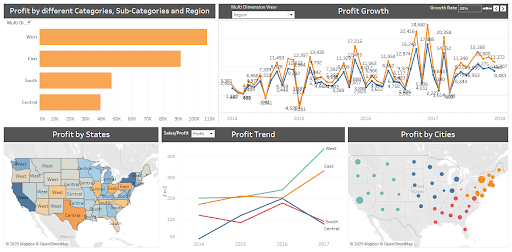

The dashboard page shown, as its layout file describes it:
{"tool":"tableau","page":{"name":"Superstore Dashboard","canvas":[1000,1000],"units":"permille","ordinal":0},"visuals":[{"type":"worksheet","title":"Sales/Profit by Different Aspects","mark":"Automatic","rows":["Calculation_827536486978531328"],"cols":["Calculation_827536487000260609"],"box":[8.1,15.3,416.3,484.7]},{"type":"worksheet","title":"Sales/Profit Change","mark":"Automatic","rows":["Calculation_827536487000260609","Calculation_827536487007801346"],"cols":["Order Date"],"box":[424.4,15.3,567.5,484.7]},{"type":"parameter","param":"[Parameters].[Parameter 1]","box":[451.4,17.5,126,62.9]},{"type":"parameter","param":"[Parameters].[Parameter 3]","box":[839.5,17.5,149.8,57]},{"type":"worksheet","title":"Sales/Proft by States","mark":"Automatic","box":[8.1,500,305.6,484.7]},{"type":"worksheet","title":"Sales/Profit Trend","mark":"Automatic","rows":["Calculation_827536487000260609"],"cols":["Order Date"],"box":[313.7,500,361.5,484.7]},{"type":"worksheet","title":"Sales/Profit by Cities","mark":"Automatic","box":[675.2,500,316.7,484.7]},{"type":"parameter","param":"[Parameters].[Parameter 2]","box":[320.4,513.2,101.5,40.9]}]}

Visuals, with their boxes on the dashboard's canvas, which has no fixed pixel size, in thousandths of its width and height (x1, y1, x2, y2). These are canvas units, not pixel positions in the 512x252 screenshot, which may show the page scaled, cropped or inside an application window:
"Sales/Profit by Different Aspects" worksheet: Rect(8, 15, 424, 500)
"Sales/Profit Change" worksheet: Rect(424, 15, 992, 500)
parameter: Rect(451, 18, 577, 80)
parameter: Rect(840, 18, 989, 74)
"Sales/Proft by States" worksheet: Rect(8, 500, 314, 985)
"Sales/Profit Trend" worksheet: Rect(314, 500, 675, 985)
"Sales/Profit by Cities" worksheet: Rect(675, 500, 992, 985)
parameter: Rect(320, 513, 422, 554)
